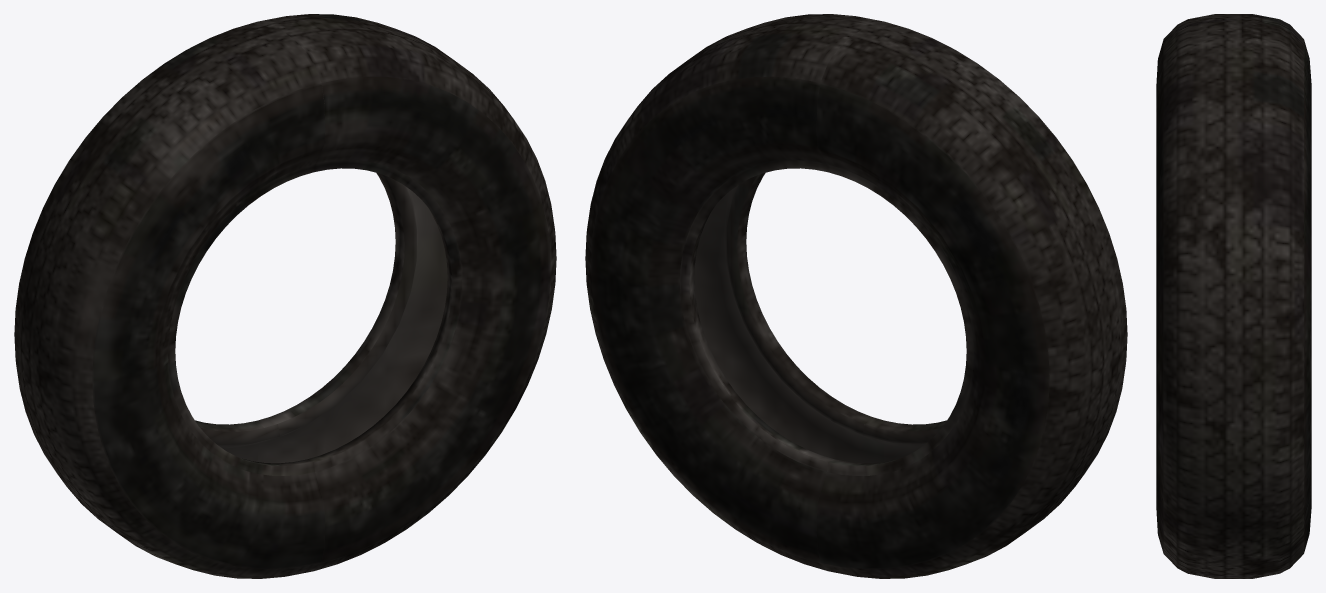
File: old_tyre.glb
3 renders of one model, left to right at view 1: azimuth 30°, elevation 25°; view 2: azimuth 150°, elevation 25°; view 3: azimuth 270°, elevation 25°, orthographic. The views are drawn at different scales.
Parts seen in each view (by area): view 1: old_tyre; view 2: old_tyre; view 3: old_tyre.
Boxes of the visible parts, <box> form: old_tyre: <box>14,14,556,578</box>; old_tyre: <box>585,14,1127,578</box>; old_tyre: <box>1156,14,1311,578</box>.
Size of the model in its own units: 0.6 by 0.6 by 0.165.
1 material, 1 textured.
